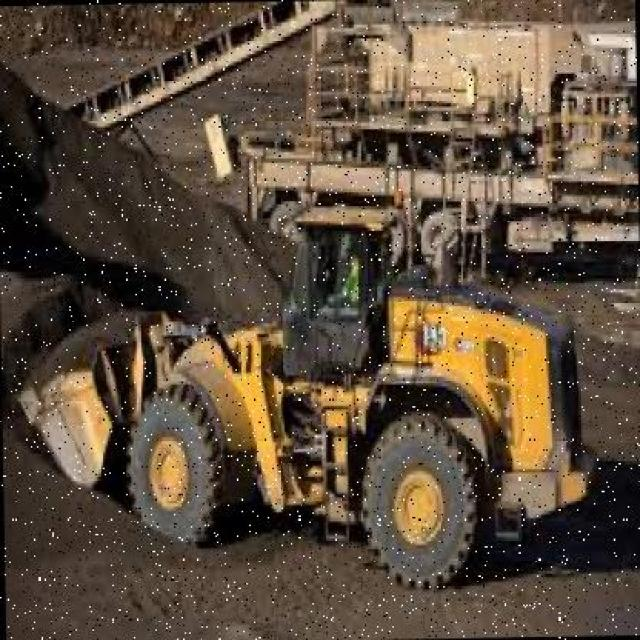buldozerpayloadergrader: (15, 197, 597, 591)
